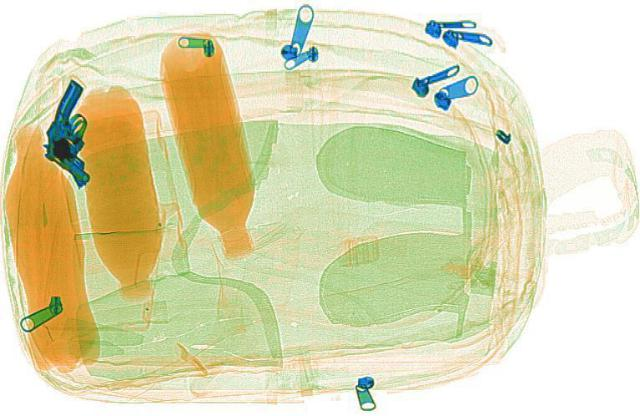Gun: (40, 77, 86, 186)
